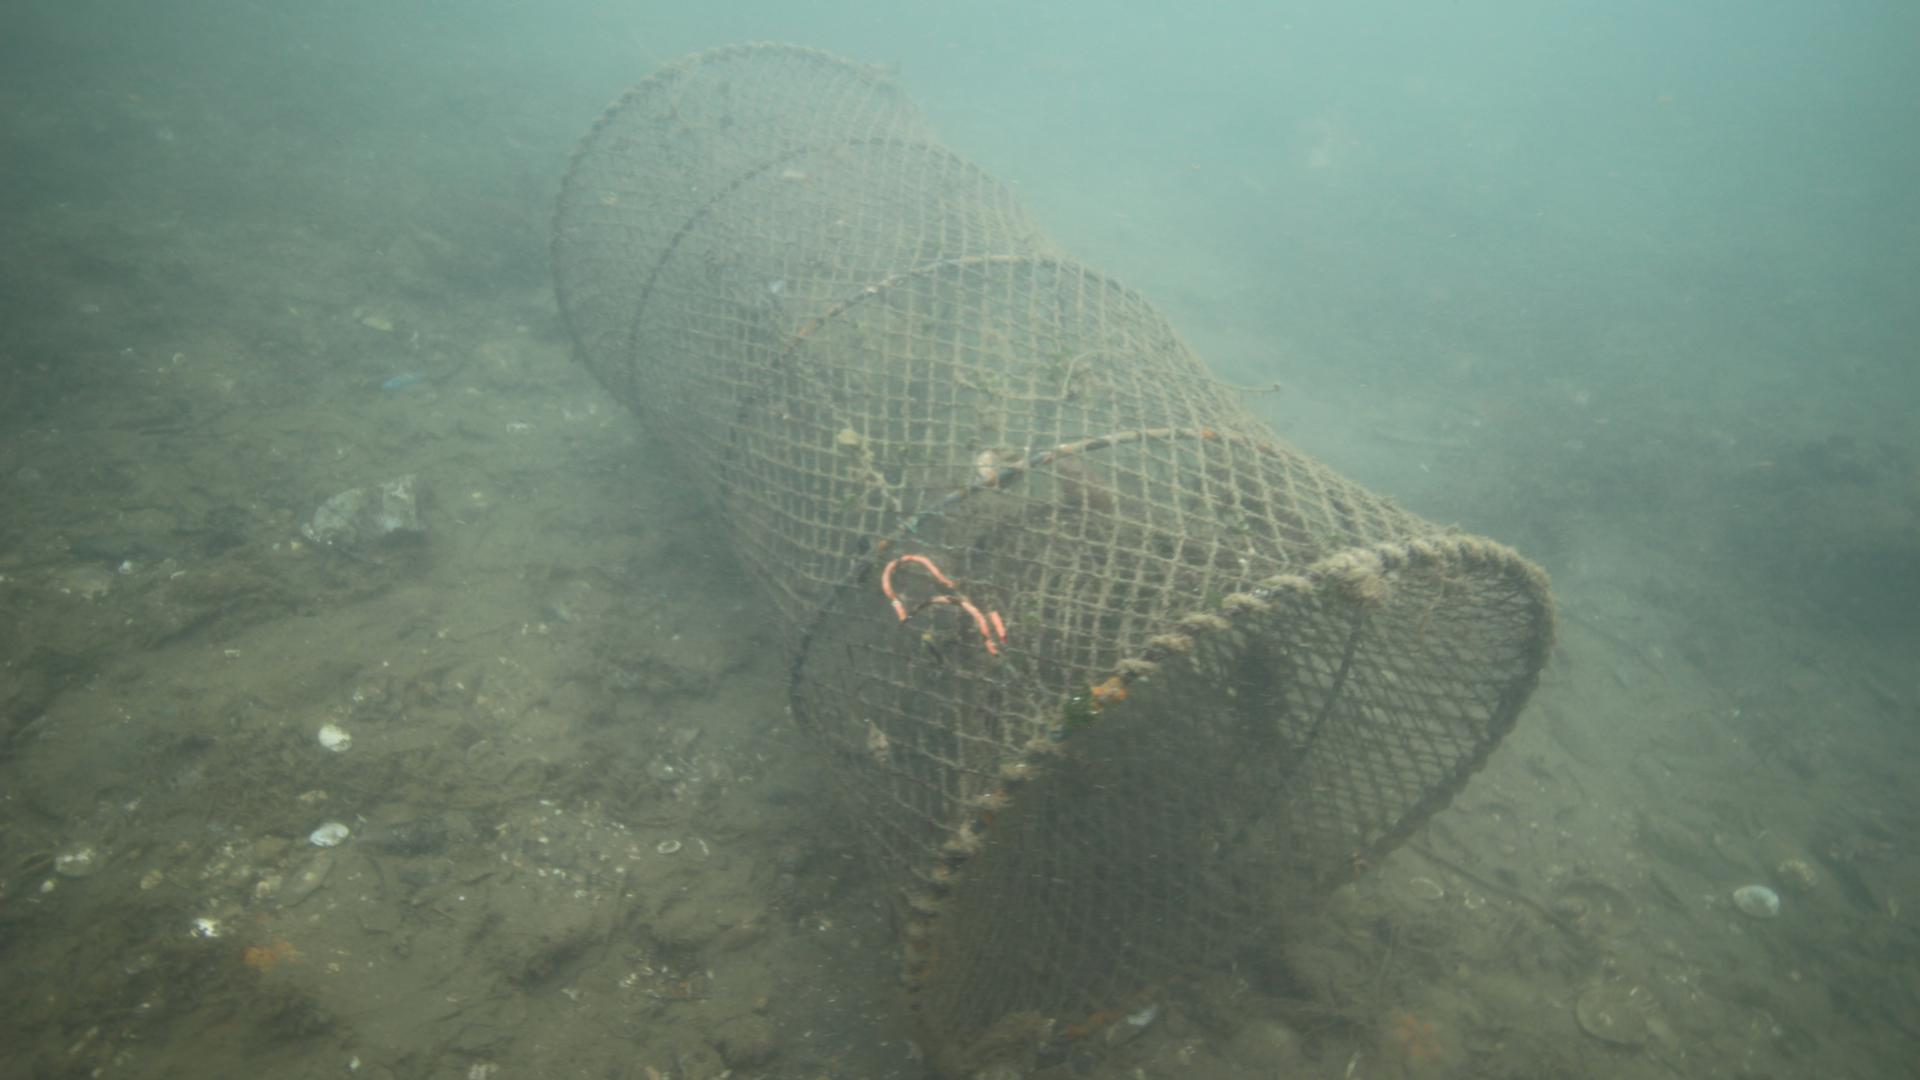spring fish trap: (549, 40, 1555, 1073)
